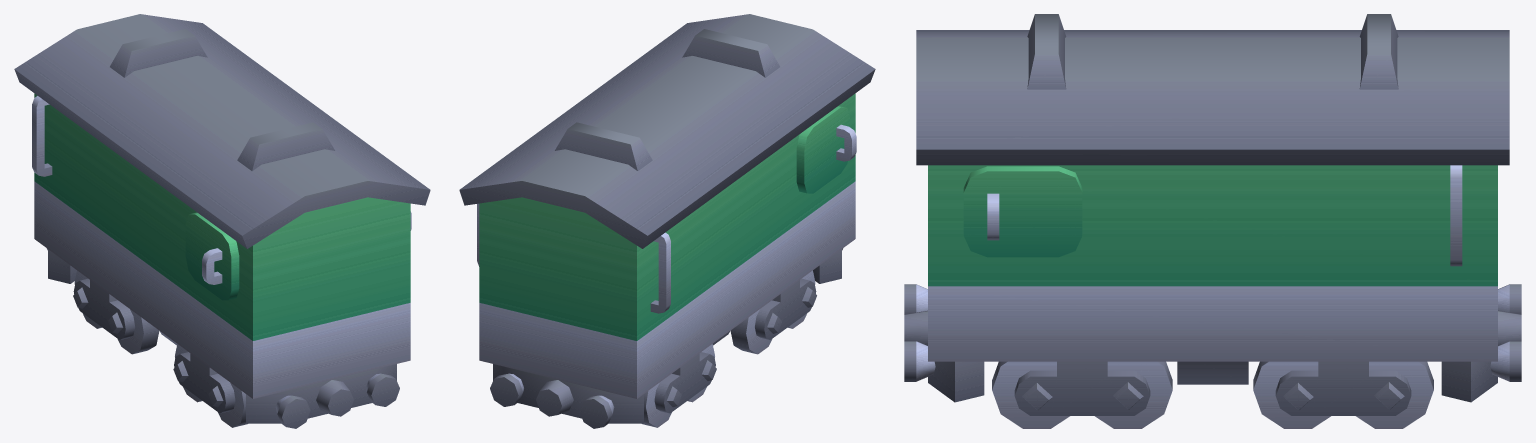
File: train-diesel-box-b.glb
3 views of the same model, side by side, from view 1: azimuth 30°, elevation 25°; view 2: azimuth 150°, elevation 25°; view 3: azimuth 270°, elevation 25° (orthographic). The views are drawn at different scales.
Visible parts, largest first — view 1: train-diesel-box-b, wheels-back, wheels-front; view 2: train-diesel-box-b, wheels-front, wheels-back; view 3: train-diesel-box-b, wheels-front, wheels-back.
Boxes of the visible parts, x1,y1,x2,y2 form: train-diesel-box-b: (14, 14, 430, 428); wheels-back: (73, 270, 159, 354); wheels-front: (173, 344, 247, 427); train-diesel-box-b: (459, 14, 875, 428); wheels-front: (730, 270, 816, 354); wheels-back: (642, 344, 716, 427); train-diesel-box-b: (904, 14, 1521, 402); wheels-front: (992, 361, 1172, 428); wheels-back: (1253, 361, 1433, 428).
Size of the model in its own units: 1.3 by 1.65 by 2.6.
Materials: 1 (1 with a texture image).
